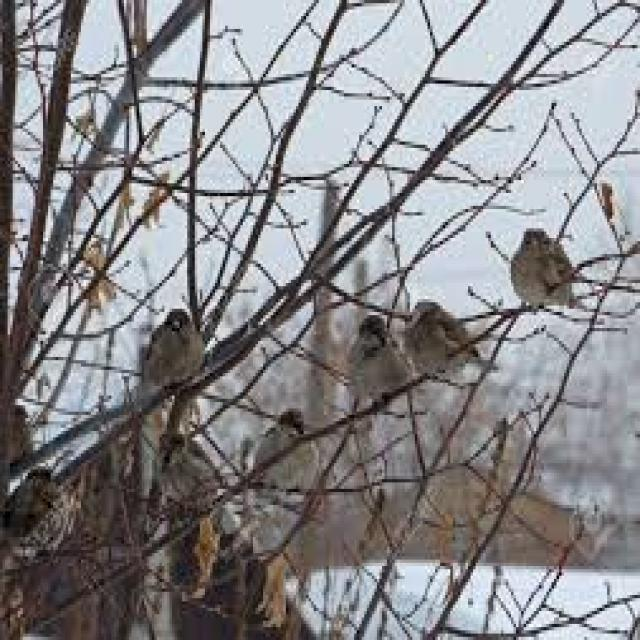bird: (407, 297, 499, 382), (506, 225, 592, 314), (344, 314, 415, 407), (152, 434, 228, 511), (247, 409, 314, 496), (140, 306, 200, 388)
